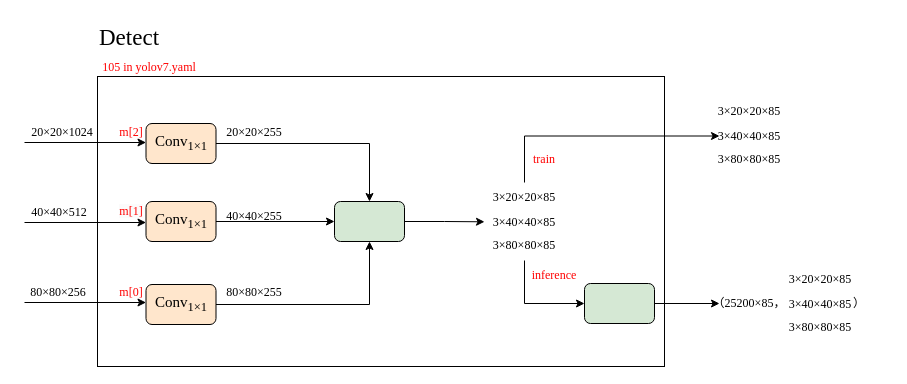
Some shapes in this 907 by 384 pixel diagram are drawn without their labels. Each missing label, with the centre of its shape:
"Adjust Dimension" belongs at pixel 369 221.
"Extra Operation" belongs at pixel 619 303.
